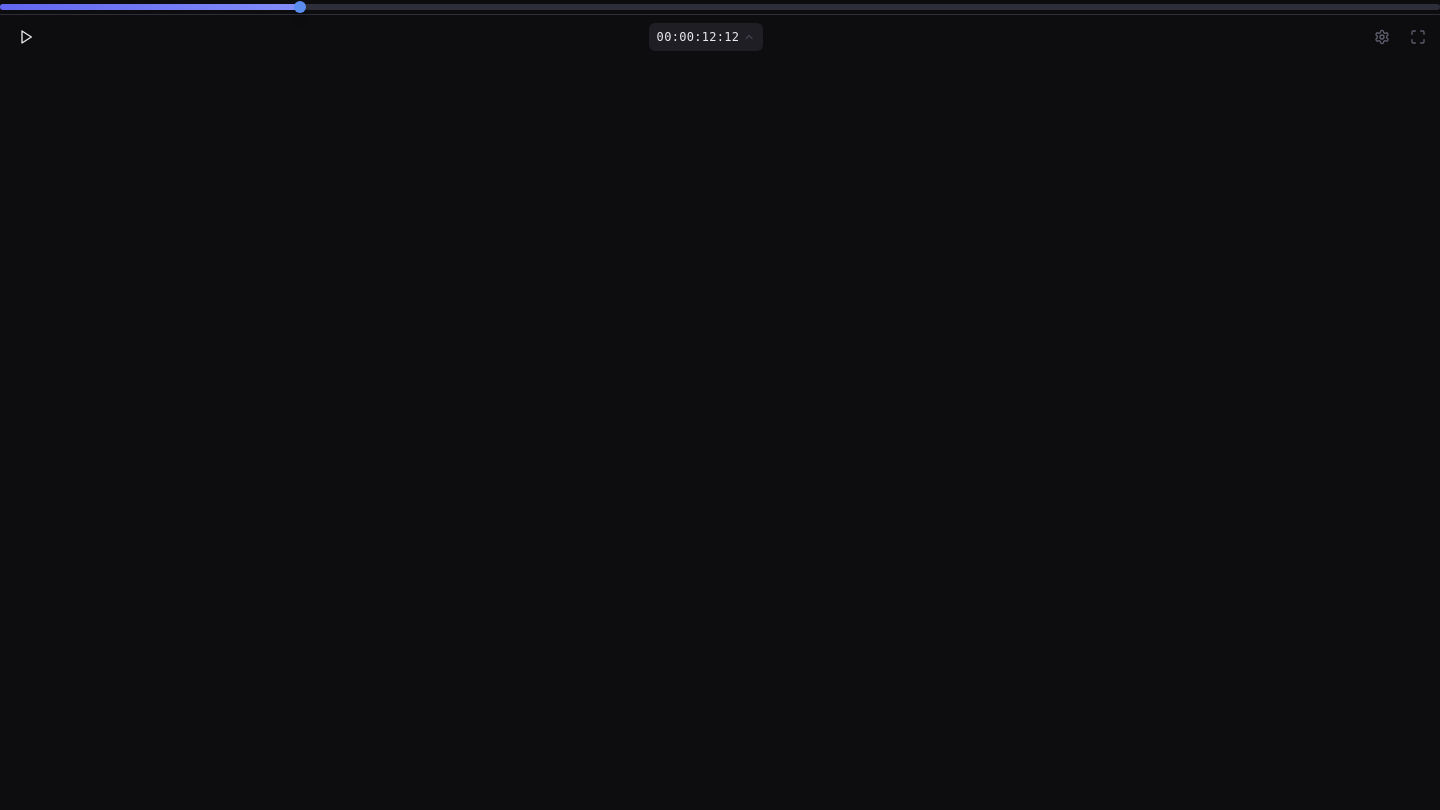
§228 — the settings sheet › holds speed, loop, captions, quality and the LUT
Step 1. Click the button with test id "player-settings-button" → {"x": 1382, "y": 36}, box [1364,14,1400,58]
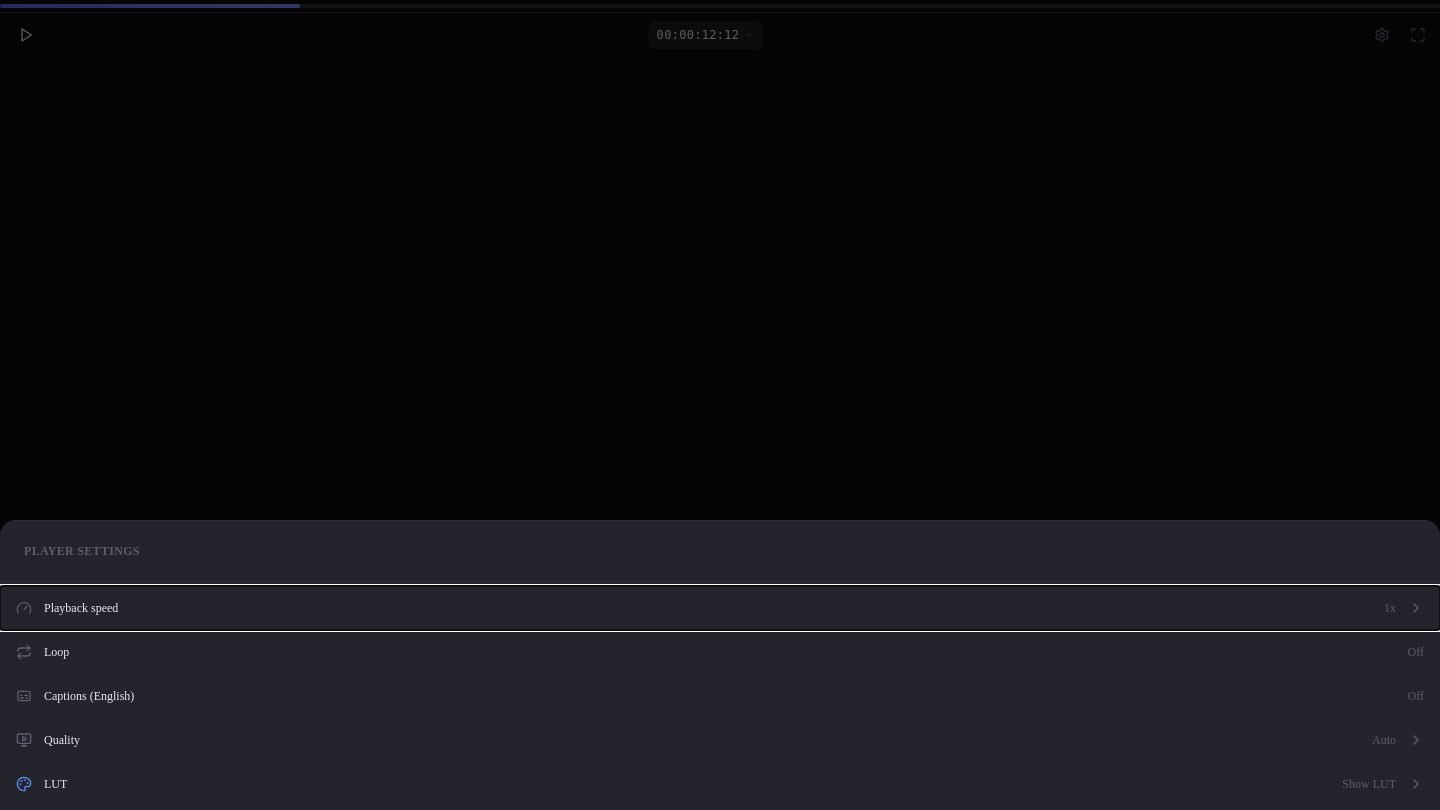
Expected: the button with test id "sheet-row-speed" is shown, [0,586,1439,630]
Expected: the button with test id "sheet-row-loop" is shown, [0,630,1439,674]
Expected: the button with test id "sheet-row-captions" is shown, [0,674,1439,718]
